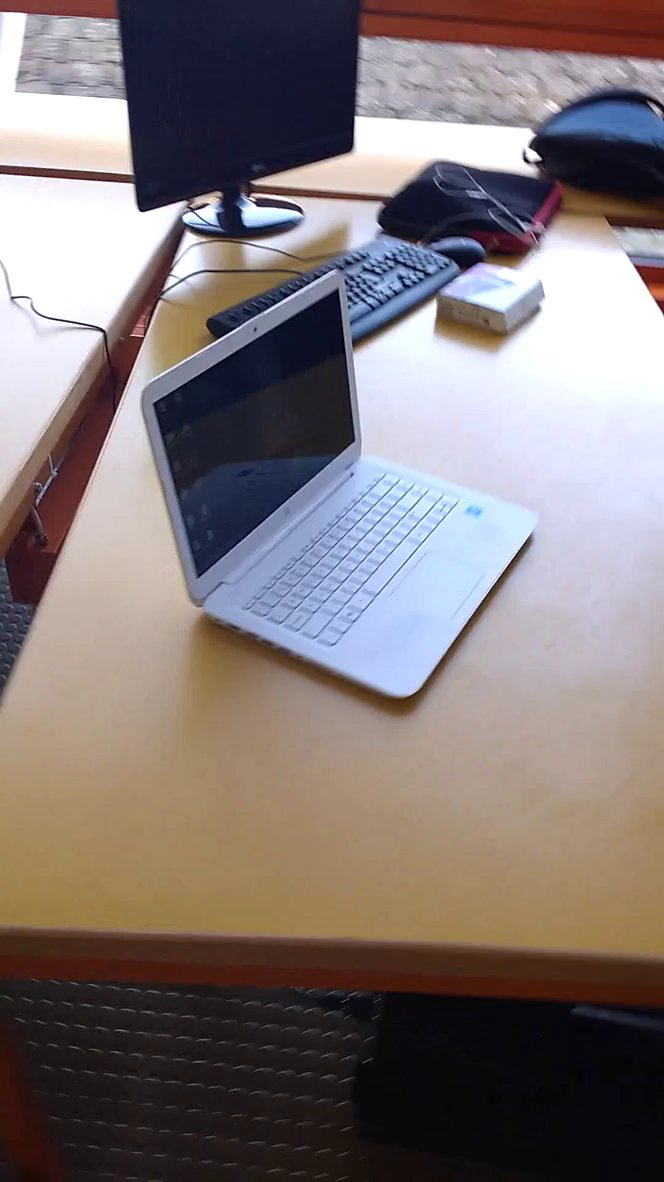laptop: (131, 262, 547, 717)
